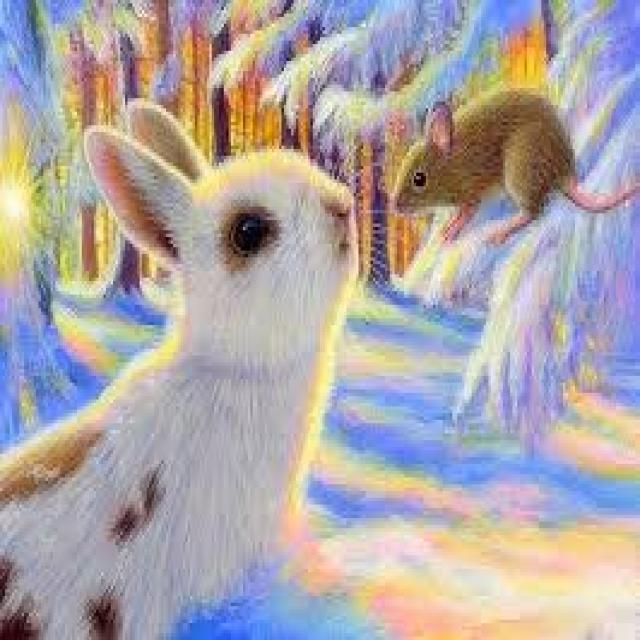rat: (0, 94, 358, 636), (390, 84, 638, 243)
